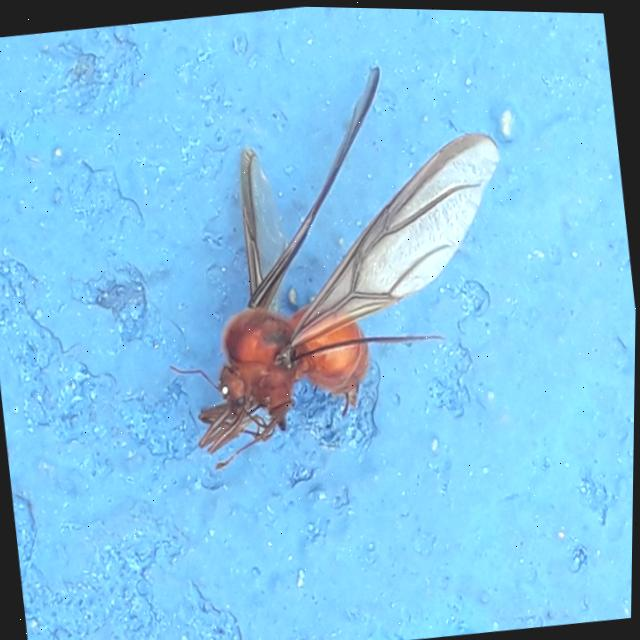Dead-Male-Alate: (134, 43, 538, 482)
